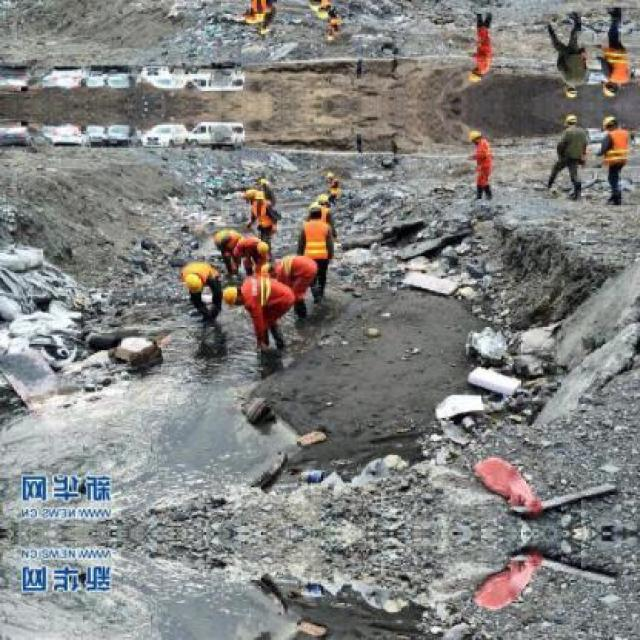Reflective-Jacket: (238, 273, 297, 310), (298, 218, 336, 260), (271, 250, 318, 279), (603, 130, 631, 165)
Safety-Helmet: (182, 272, 206, 294), (220, 282, 240, 308), (305, 200, 326, 218), (254, 239, 272, 259), (600, 114, 618, 130), (466, 128, 485, 143), (252, 188, 268, 204), (316, 192, 332, 206), (563, 112, 579, 125)
